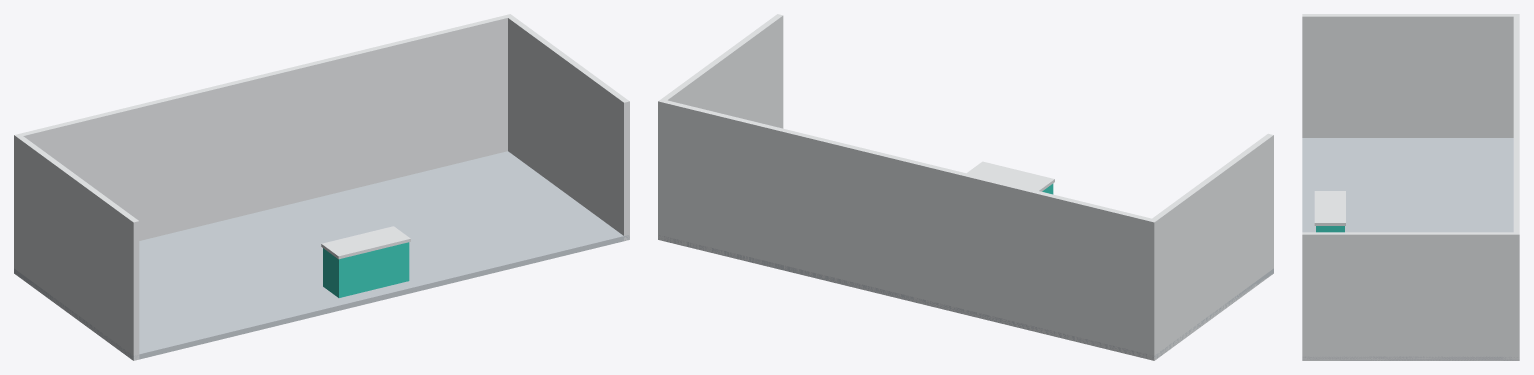
3 renders of one model, left to right at view 1: azimuth 30°, elevation 25°; view 2: azimuth 150°, elevation 25°; view 3: azimuth 270°, elevation 25°, orthographic. The views are drawn at different scales.
Parts seen in each view (by area): view 1: Exhibition Booth Concept; view 2: Exhibition Booth Concept; view 3: Exhibition Booth Concept.
Boxes of the visible parts, <box> form: Exhibition Booth Concept: <box>14,14,629,360</box>; Exhibition Booth Concept: <box>658,14,1273,360</box>; Exhibition Booth Concept: <box>1302,14,1519,360</box>.
Size of the model in its own units: 12 by 3.2 by 5.
